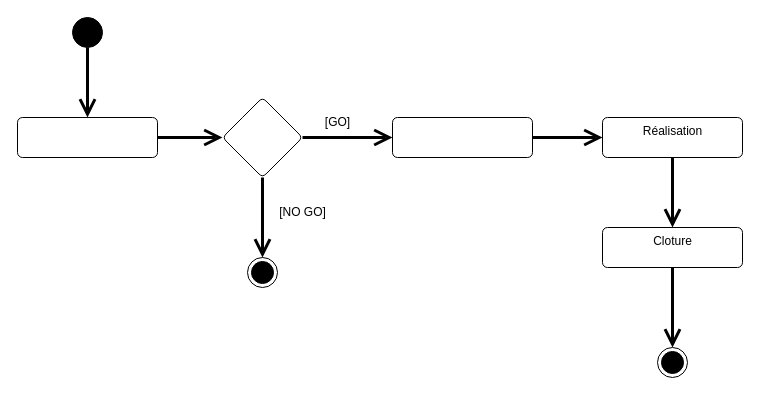
Image size: 760x395. Some labels were removed from this diagram. Each missing label, with the centre of its shape:
"Cadrage" goes at point (87, 137).
"Conception" goes at point (462, 137).
